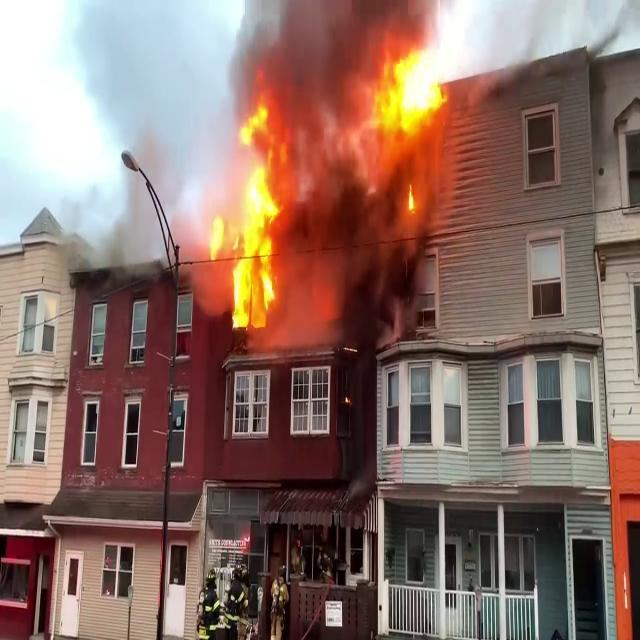Fire: (204, 94, 294, 336), (372, 32, 450, 140)
Smoke: (264, 2, 449, 328), (80, 106, 202, 280)
